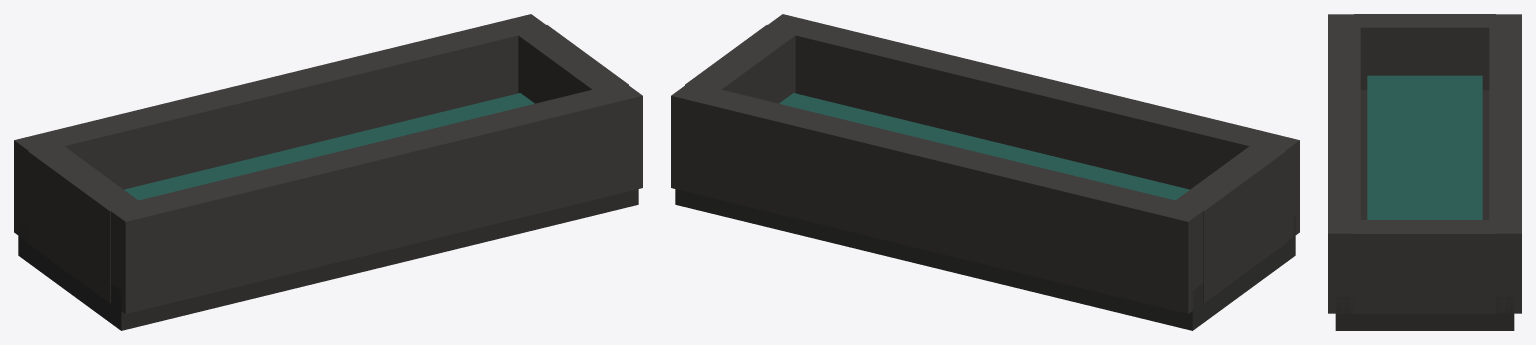
The model's file is coolant_trough.glb.
The picture shows the model from 3 angles, left to right: view 1: azimuth 30°, elevation 25°; view 2: azimuth 150°, elevation 25°; view 3: azimuth 270°, elevation 25°; orthographic projection. The views are drawn at different scales.
Parts seen in each view (by area): view 1: coolant_trough; view 2: coolant_trough; view 3: coolant_trough.
Part boxes in pixels (bbox=[...]): coolant_trough: bbox=[14, 14, 642, 330]; coolant_trough: bbox=[671, 14, 1299, 330]; coolant_trough: bbox=[1328, 14, 1521, 330].
Bounding box in the file's own units: 2.71 × 0.56 × 1.01.
